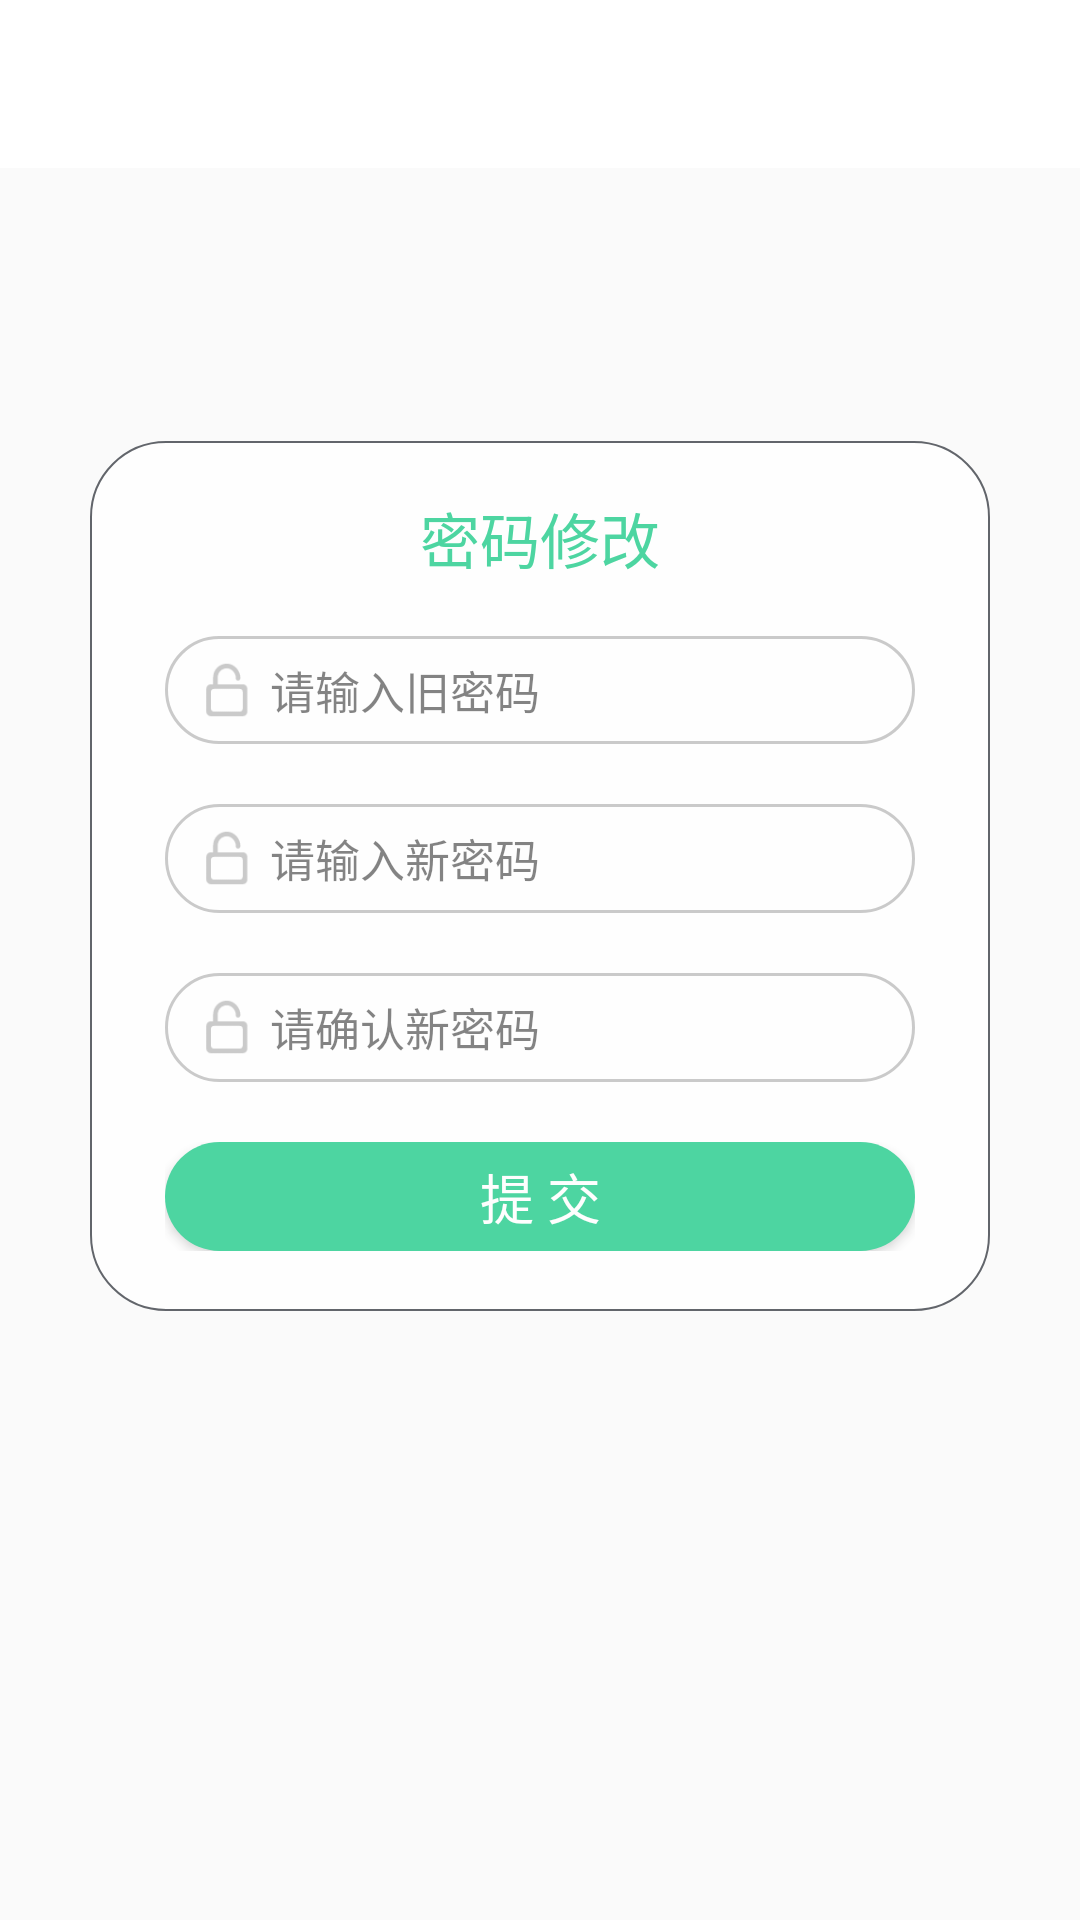

Named icons in this screenshot (1080w x 1920h) and their centers, (x,y):
password: (226,690), (226,858), (226,1027)
